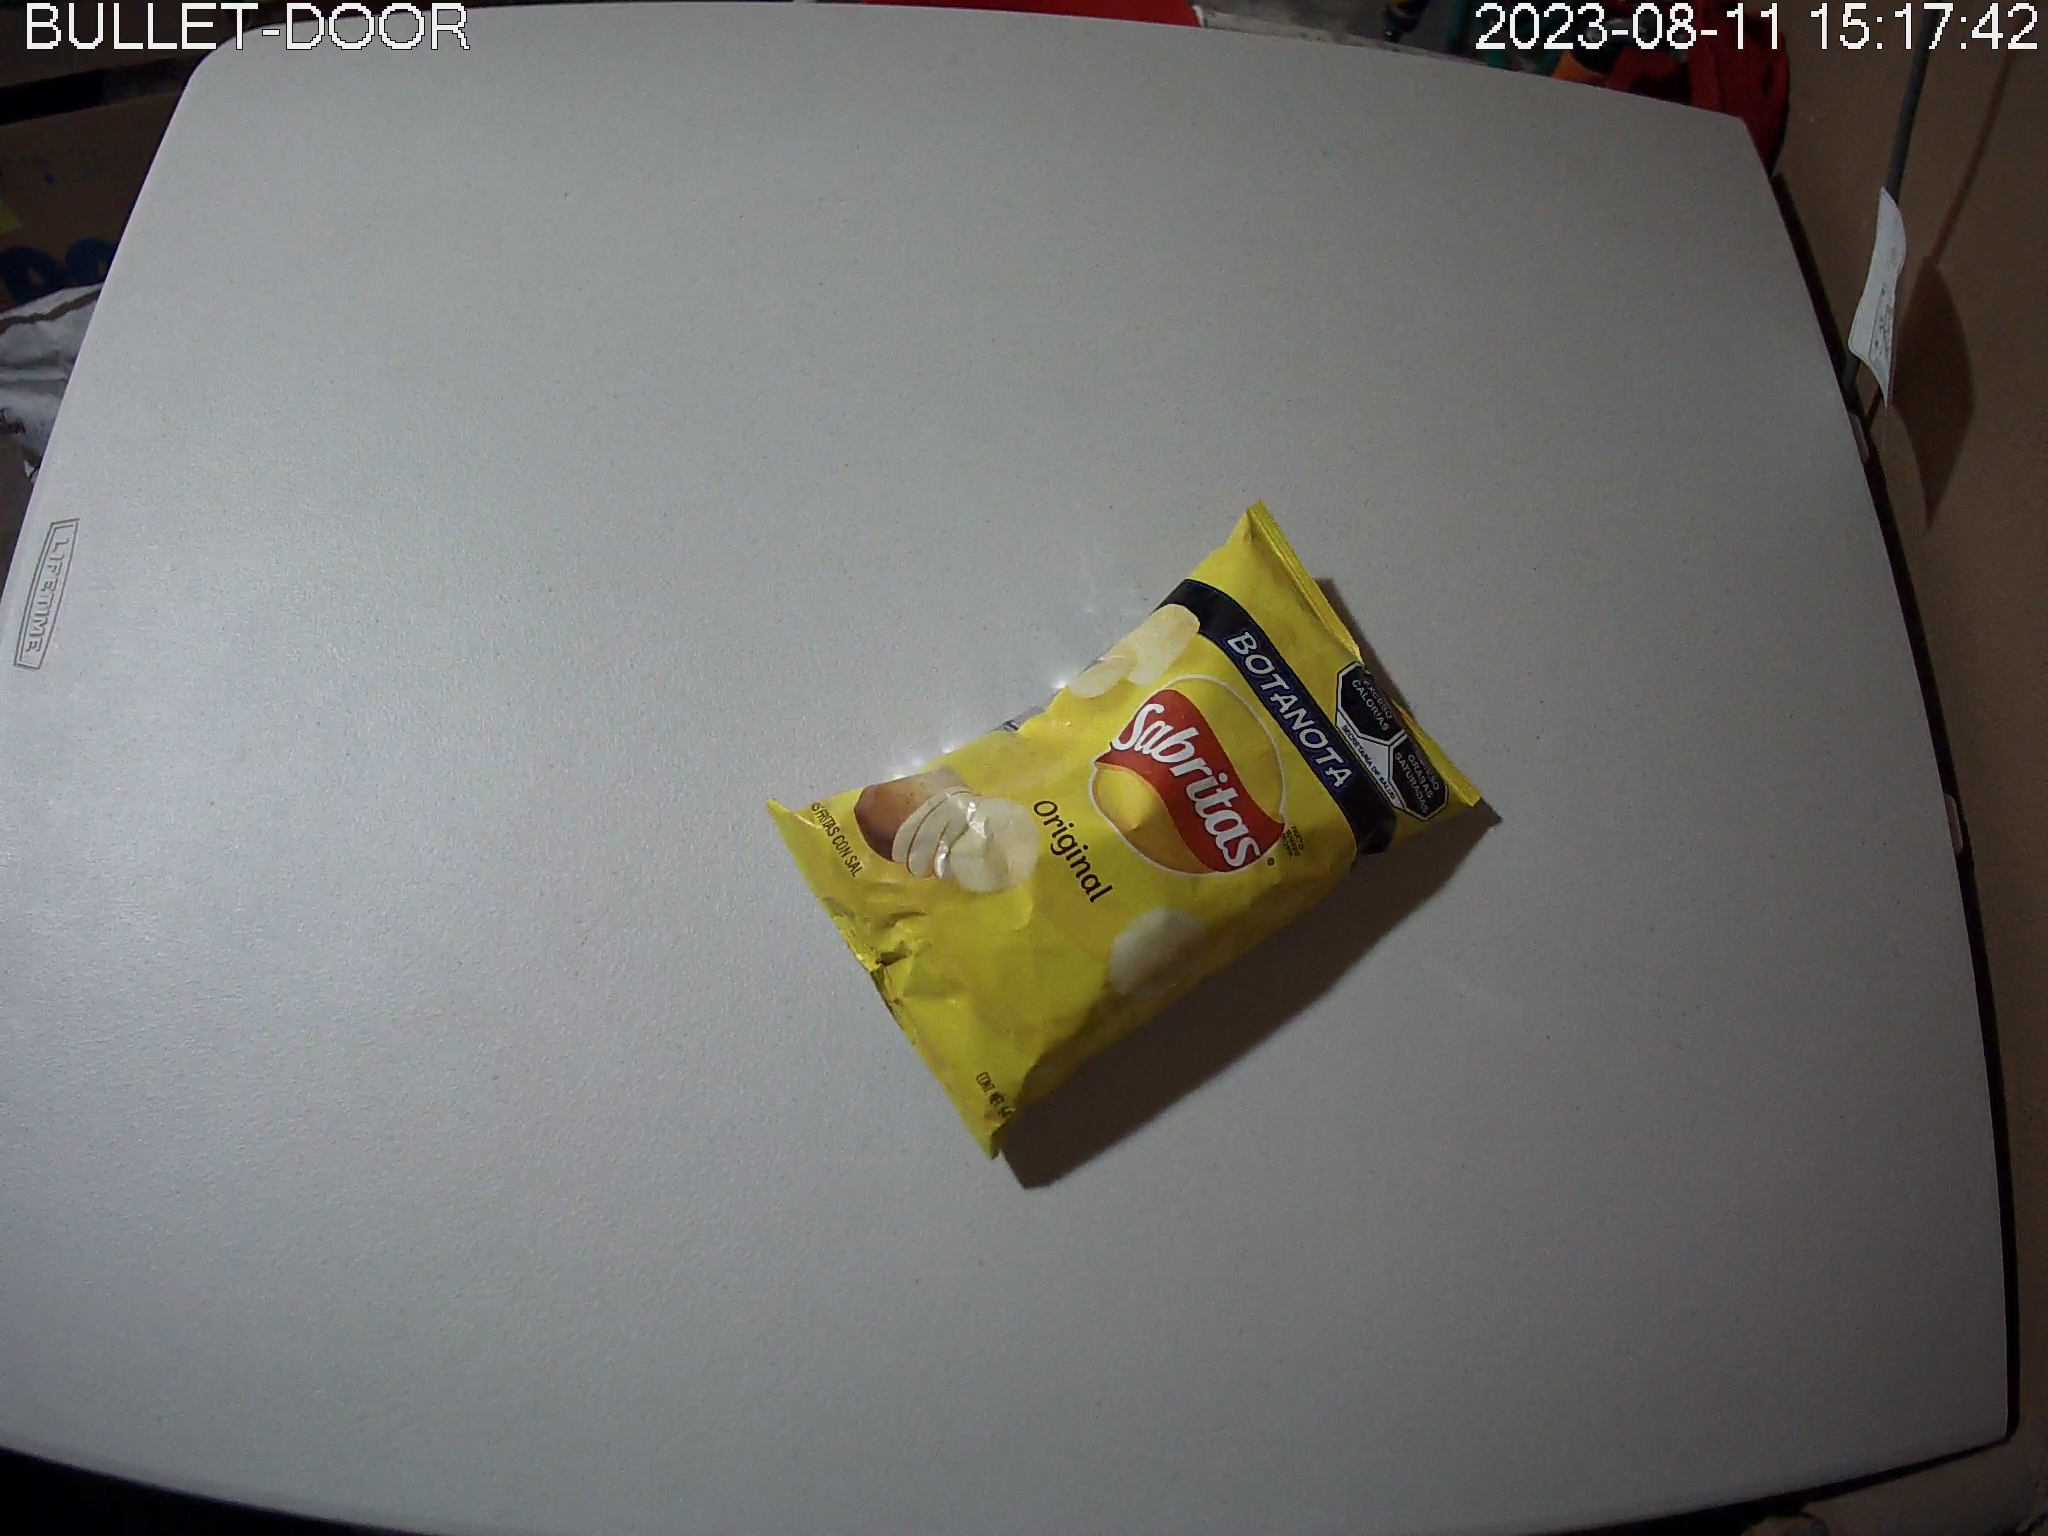Sabritas_64_F: (764, 502, 1484, 1158)
